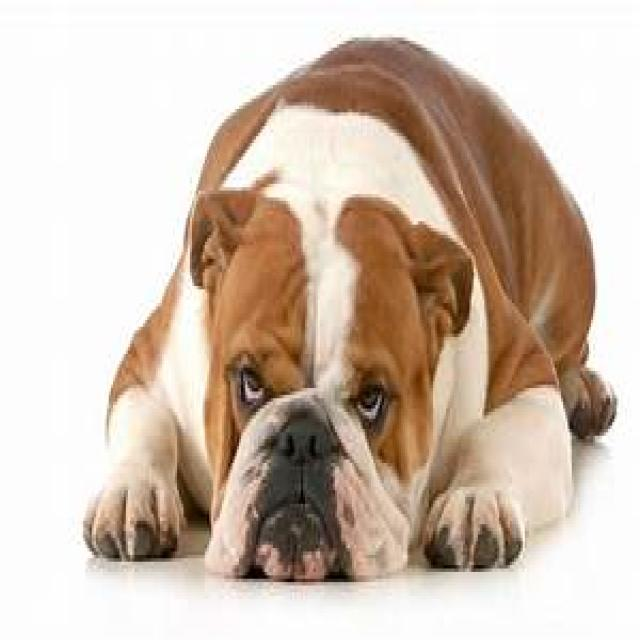dog: (62, 6, 622, 616)
